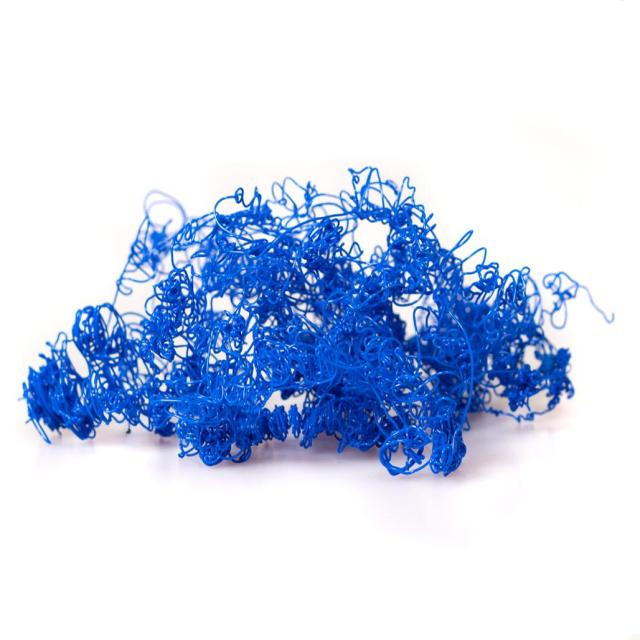Spaghetti: (21, 130, 608, 502)
